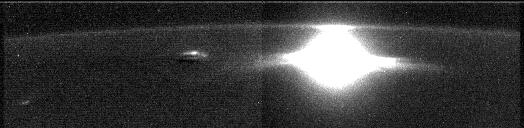negative: (312, 24, 354, 34)
